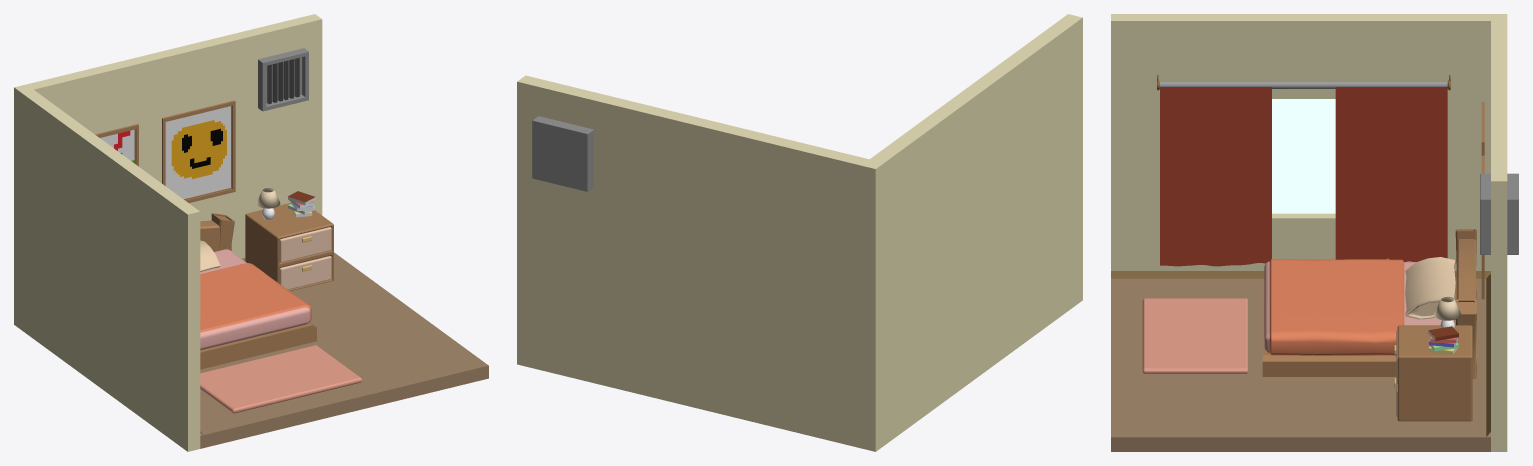
The model's file is room.glb.
3 renders of one model, left to right at view 1: azimuth 30°, elevation 25°; view 2: azimuth 150°, elevation 25°; view 3: azimuth 270°, elevation 25°, orthographic. The views are drawn at different scales.
Visible parts, largest first — view 1: object 1, Matress, object 14, object 2, object 3, object 15, polySurface7, object 13, polySurface10, polySurface4; view 2: object 1, object 15; view 3: object 1, object 12, Matress, object 2, object 3, polySurface7, Pillow2, object 16, object 15, polySurface4, polySurface10, Lampshade.
Part boxes in pixels (x1,y1,x2,y2): object 1: [14, 14, 488, 451]; Matress: [200, 249, 311, 350]; object 14: [162, 100, 235, 202]; object 2: [200, 345, 362, 413]; object 3: [245, 203, 333, 291]; object 15: [258, 48, 308, 111]; polySurface7: [200, 322, 316, 369]; object 13: [95, 124, 138, 166]; polySurface10: [211, 213, 234, 250]; polySurface4: [200, 220, 219, 251]; object 1: [517, 14, 1082, 451]; object 15: [532, 116, 593, 191]; object 1: [1111, 14, 1507, 451]; object 12: [1157, 75, 1450, 266]; Matress: [1264, 259, 1454, 355]; object 2: [1142, 298, 1247, 373]; object 3: [1396, 325, 1472, 421]; polySurface7: [1262, 279, 1476, 376]; Pillow2: [1405, 257, 1455, 319]; object 16: [1111, 271, 1490, 436]; object 15: [1480, 173, 1518, 254]; polySurface4: [1456, 239, 1475, 299]; polySurface10: [1455, 299, 1476, 378]; Lampshade: [1434, 296, 1461, 320].
Bounding box in the file's own units: 4.63 × 3.49 × 4.77.
